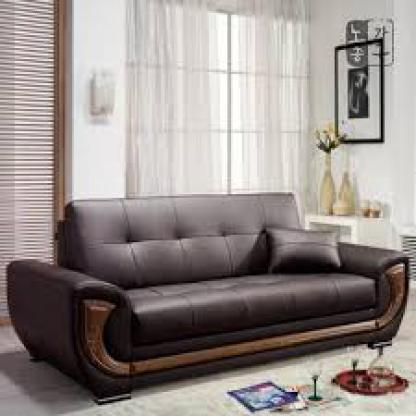sofa: (9, 196, 409, 388)
